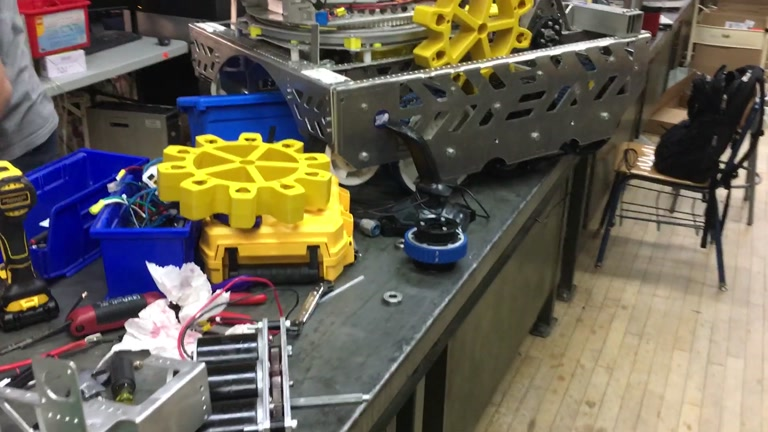gear: (156, 131, 333, 229), (411, 1, 535, 85)
